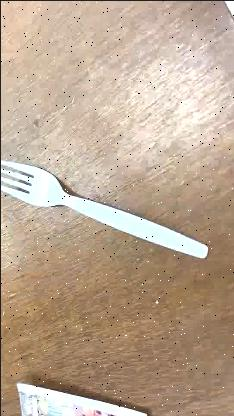Others: (2, 158, 208, 258)
